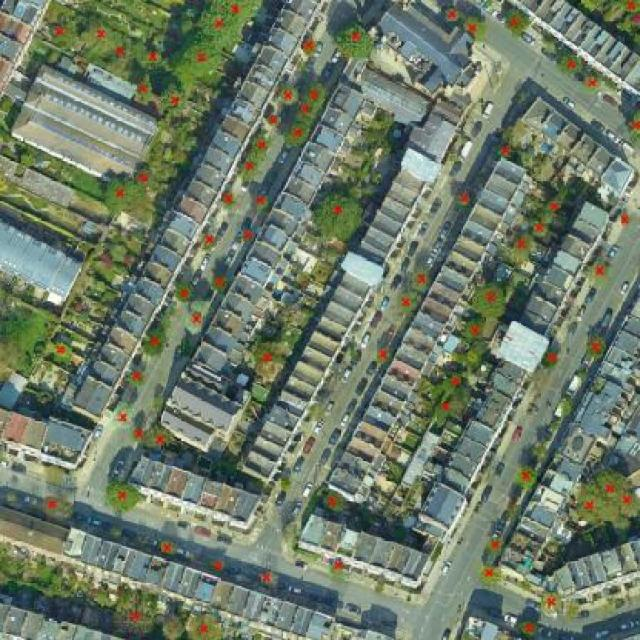tree: (318, 194, 362, 241), (173, 44, 221, 81), (118, 588, 156, 634), (579, 481, 621, 522), (336, 22, 375, 58), (197, 12, 240, 43), (208, 0, 262, 22), (105, 178, 137, 213), (476, 282, 506, 318), (185, 612, 223, 640), (106, 480, 139, 512), (435, 390, 462, 424), (254, 342, 280, 376), (50, 22, 79, 50), (186, 298, 208, 333), (173, 120, 199, 149), (599, 471, 626, 498), (85, 20, 112, 46), (505, 9, 530, 37), (164, 84, 188, 113), (144, 424, 174, 447), (133, 44, 161, 68), (144, 324, 165, 356), (41, 498, 73, 519), (285, 121, 310, 147), (514, 232, 534, 263), (163, 612, 185, 640), (478, 564, 502, 588), (463, 18, 486, 42), (462, 316, 484, 341), (108, 37, 129, 63), (322, 490, 346, 512), (398, 291, 420, 315), (116, 400, 136, 426), (296, 100, 319, 122), (242, 150, 260, 178), (626, 109, 640, 145), (620, 492, 640, 517), (517, 466, 537, 491), (50, 342, 72, 364), (560, 53, 582, 75), (149, 142, 173, 162), (306, 81, 326, 104), (586, 336, 606, 359), (412, 269, 432, 289), (258, 570, 280, 588), (136, 168, 155, 188), (542, 592, 560, 613), (137, 77, 151, 103), (582, 73, 600, 93), (467, 342, 484, 363), (278, 88, 300, 104), (446, 372, 465, 390), (175, 284, 194, 301), (158, 539, 177, 556), (374, 347, 392, 364), (212, 273, 228, 292), (518, 622, 539, 636), (302, 37, 318, 55), (330, 558, 345, 577), (487, 536, 504, 552), (613, 516, 632, 530), (253, 137, 270, 152), (443, 7, 460, 22), (542, 351, 558, 366), (534, 446, 549, 462), (577, 0, 597, 12), (202, 232, 216, 248), (540, 208, 554, 224), (533, 221, 547, 237), (254, 195, 268, 210), (130, 370, 144, 385), (629, 9, 640, 28), (222, 191, 235, 207), (499, 142, 512, 158), (623, 0, 640, 12), (210, 558, 224, 572), (458, 193, 472, 207), (548, 199, 562, 213), (592, 265, 606, 278), (267, 115, 281, 127), (134, 428, 146, 442), (110, 527, 124, 539), (373, 580, 385, 594), (242, 228, 253, 242), (620, 212, 631, 226), (562, 398, 570, 416), (550, 419, 561, 430), (578, 372, 588, 382), (483, 0, 495, 8)
